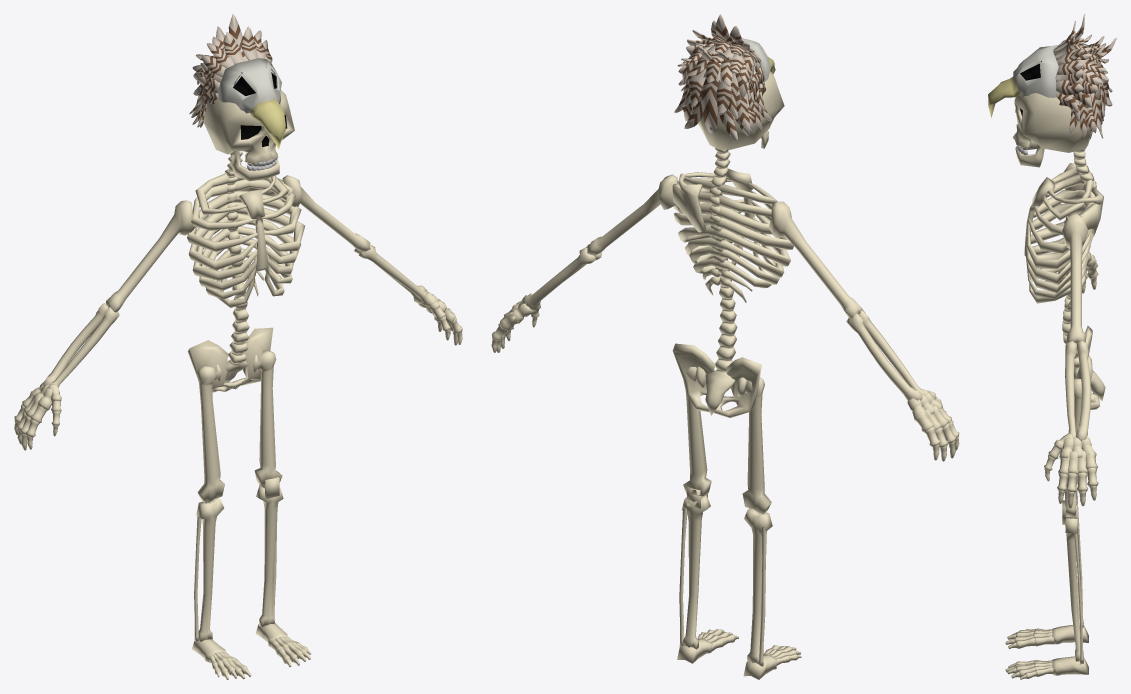
Rendered from Skelett_Full.fbx.
The picture shows the model from 3 angles, left to right: view 1: azimuth 30°, elevation 25°; view 2: azimuth 150°, elevation 25°; view 3: azimuth 270°, elevation 25°; orthographic projection. The views are drawn at different scales.
Visible parts, largest first — view 1: Plane.001; view 2: Plane.001; view 3: Plane.001.
Boxes of the visible parts, left/top/right/bottom form: Plane.001: left=14, top=14, right=462, bottom=679; Plane.001: left=491, top=14, right=959, bottom=679; Plane.001: left=988, top=14, right=1116, bottom=679.
Bounding box in the file's own units: 1015 × 1399 × 253.
